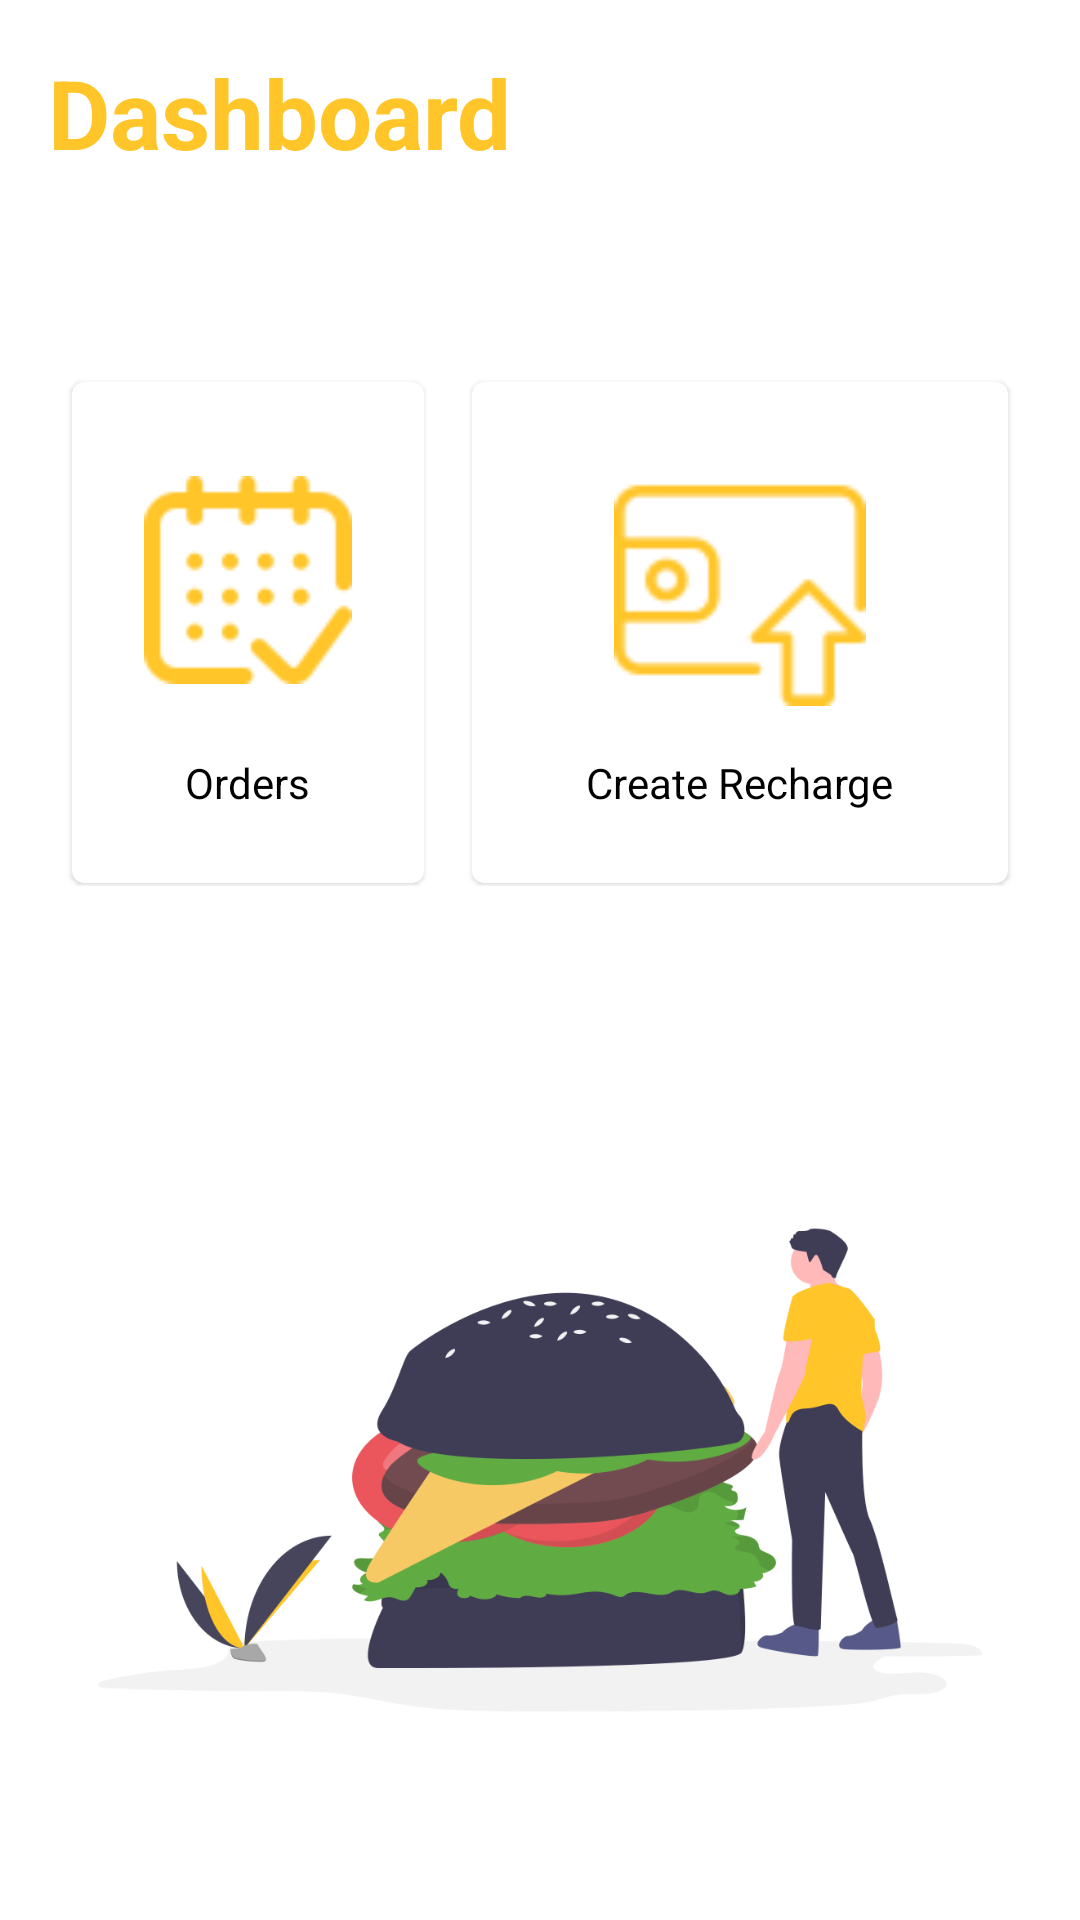

Screen size 1080×1920. Icon name, then its box in pixels as (x1=x1, y1=y1, x2=x2, y2=y2):
attendance: (x1=144, y1=476, x2=352, y2=684)
